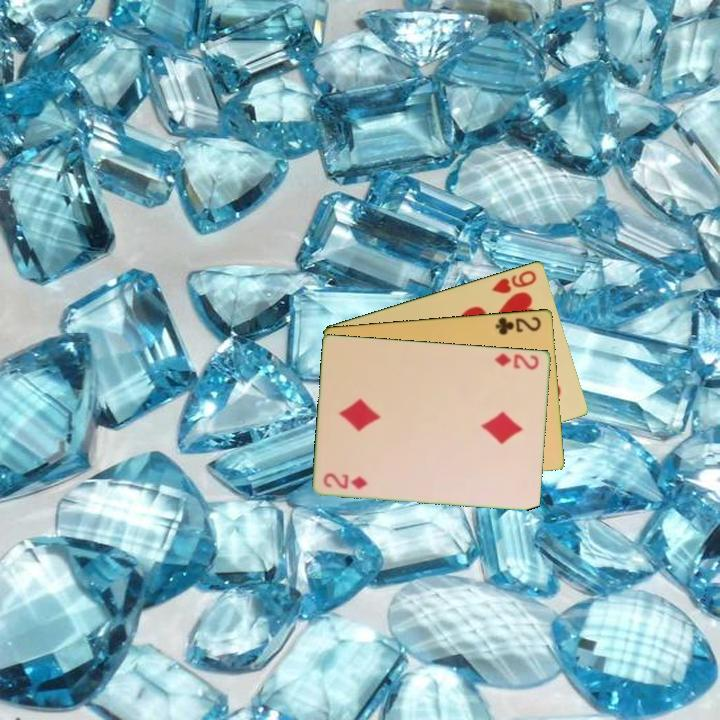2c: (492, 313, 544, 337)
2d: (492, 349, 542, 373), (320, 469, 370, 492)
9h: (488, 266, 540, 296)
